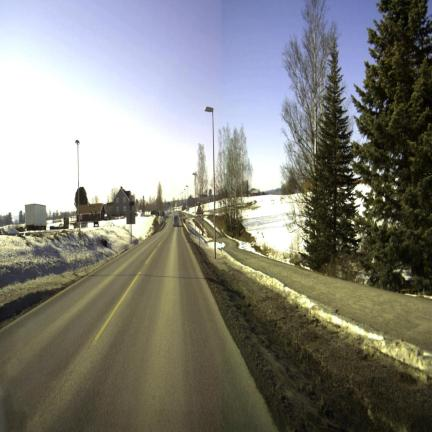Road: (0, 219, 275, 430)
